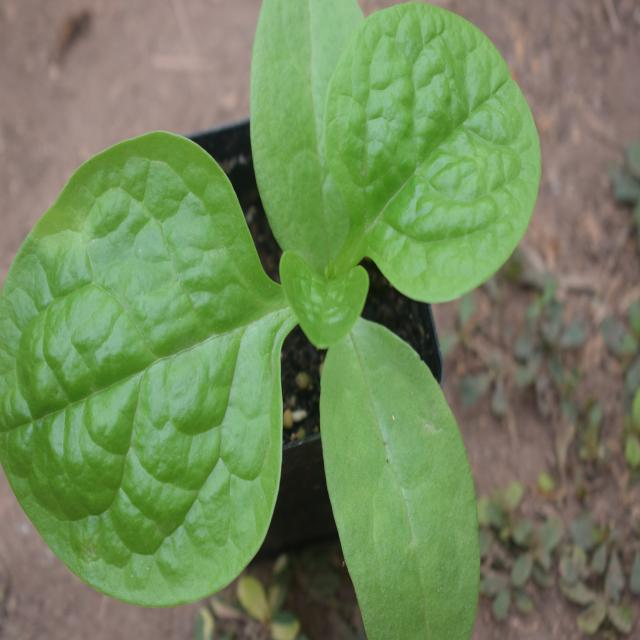Ceylon spinach: (37, 9, 532, 598)
